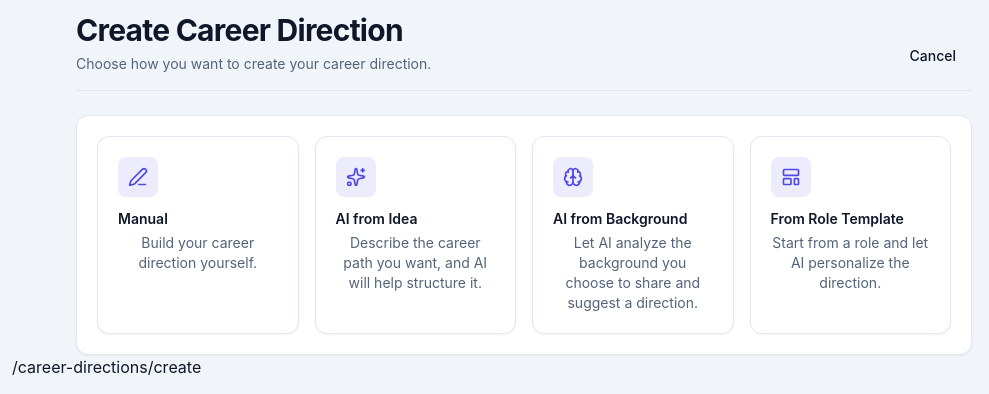
Scenario: CareerDirectionCreatePage › manual mode redirects to the manual create form
Click the radio button labelled "Manual Build your career direction yourself.": (198, 235) [97,136,298,334]
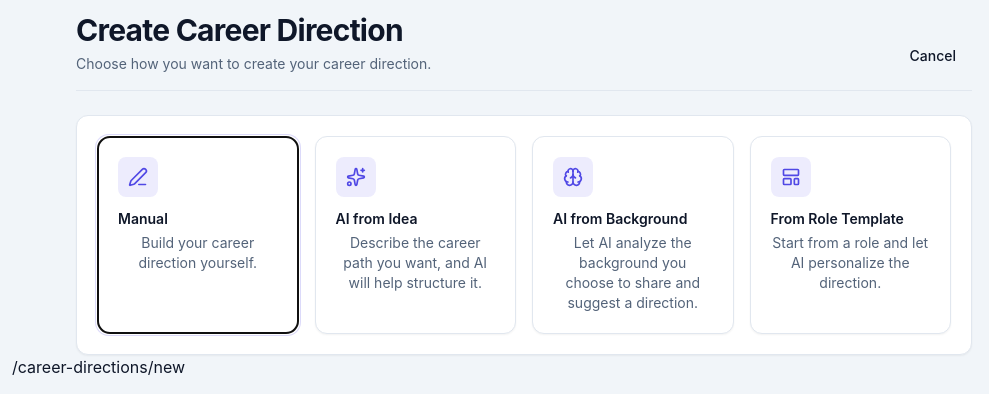
Expected: the text with test id "location" reads "/career-directions/new", [12,357,185,377]
